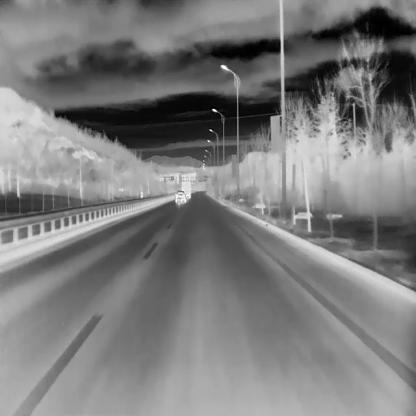car: (174, 190, 186, 203)
truck: (182, 181, 191, 198)
